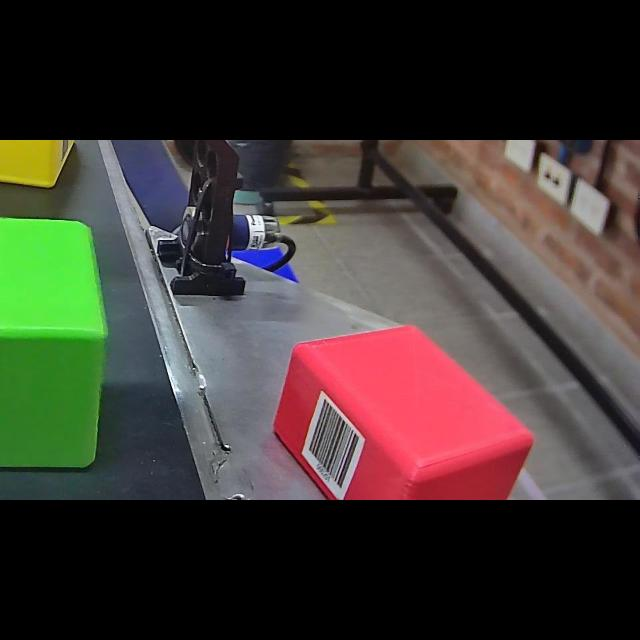greenBox: (0, 214, 114, 478)
redBox: (263, 312, 537, 500)
yellowBox: (0, 140, 90, 194)
